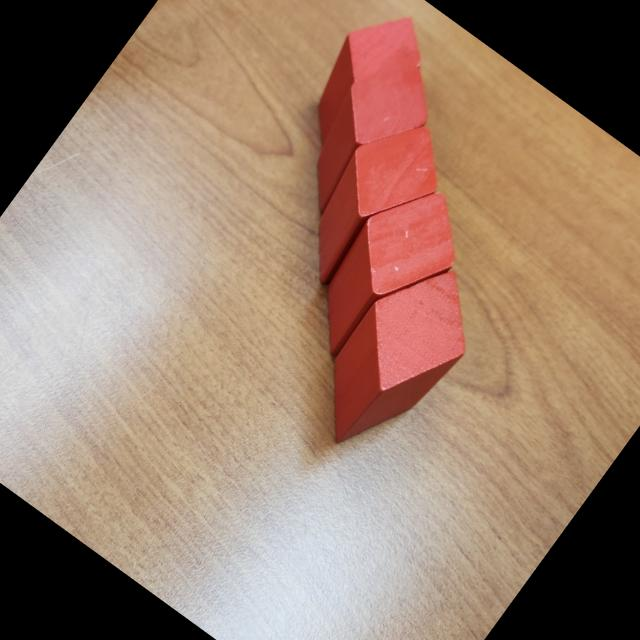red: (294, 241, 501, 472), (288, 166, 484, 383), (280, 101, 462, 304), (279, 40, 449, 232), (282, 0, 438, 168)
